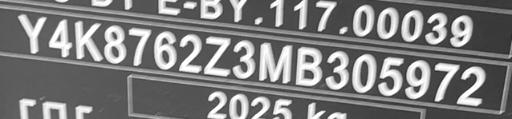letter: (256, 39, 296, 84), (453, 64, 489, 108), (14, 12, 48, 56), (72, 16, 104, 61), (292, 43, 324, 88), (202, 32, 232, 77), (428, 60, 460, 101), (46, 14, 74, 58), (402, 59, 432, 100), (176, 30, 204, 73), (322, 47, 350, 90), (376, 54, 404, 97), (126, 25, 152, 70), (230, 37, 256, 82), (350, 51, 378, 92), (102, 22, 128, 63), (151, 30, 177, 71)
